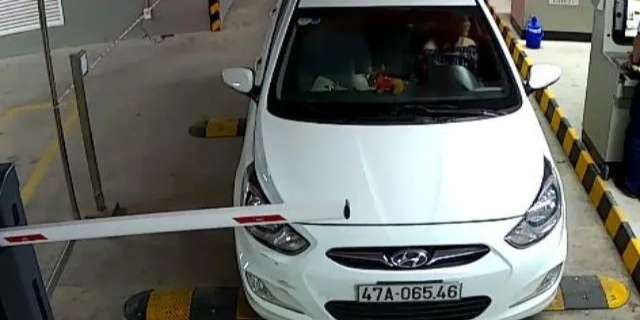bien_so: (358, 282, 462, 303)
